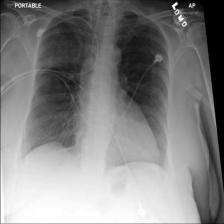normal: (19, 1, 172, 177)
